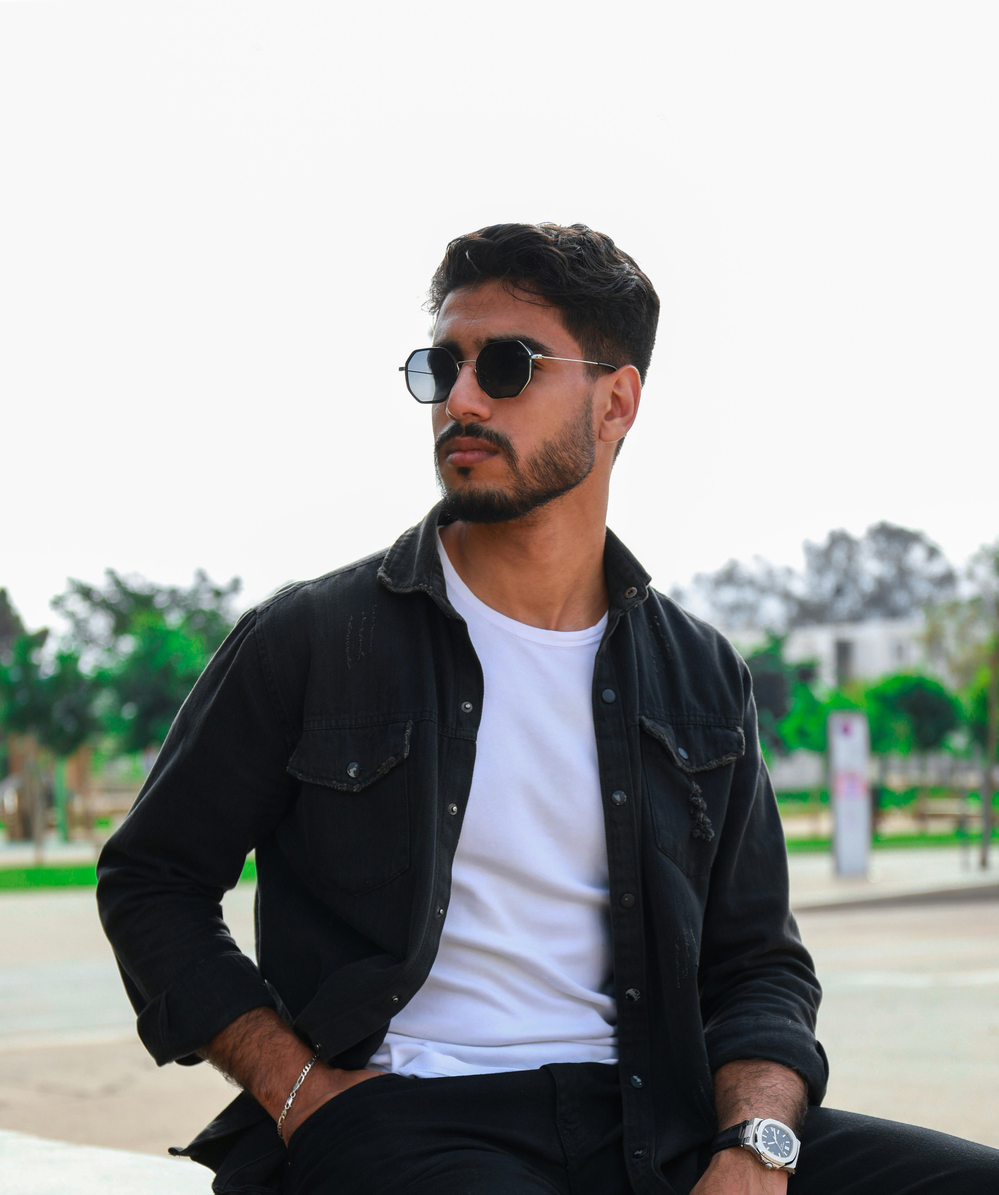sunglasses: (390, 328, 551, 413)
